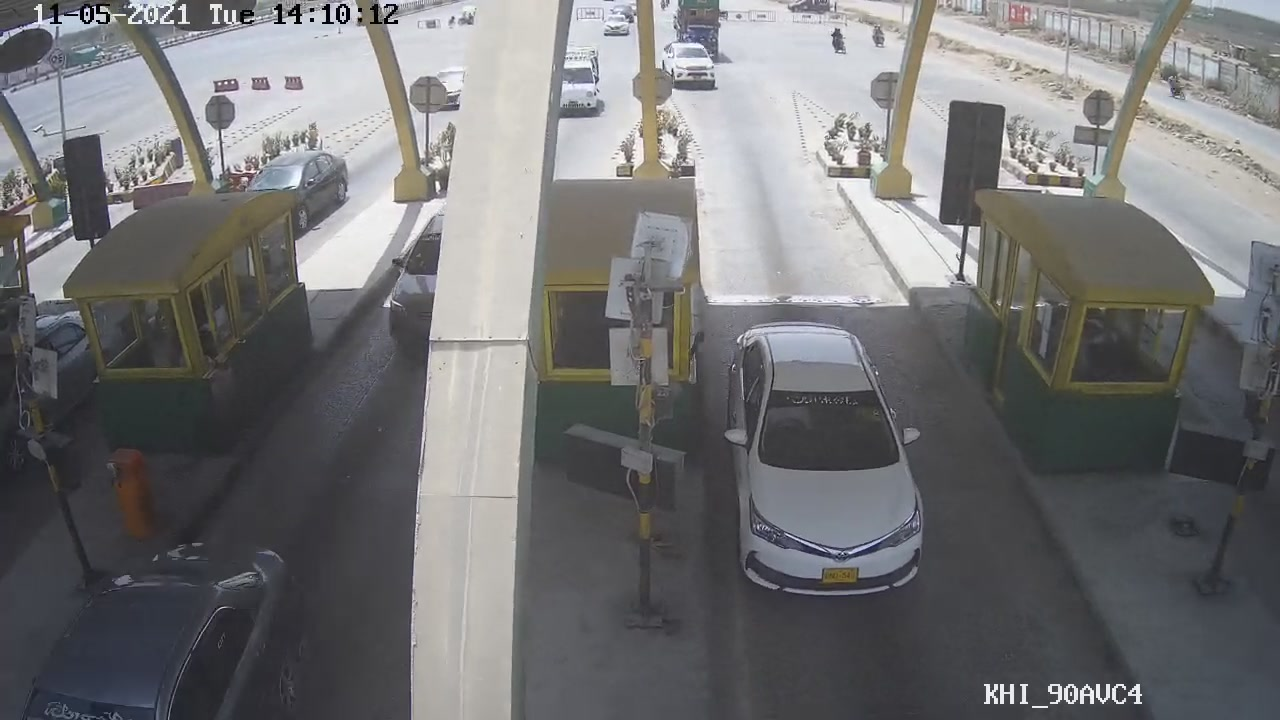F1: (722, 316, 932, 606)
